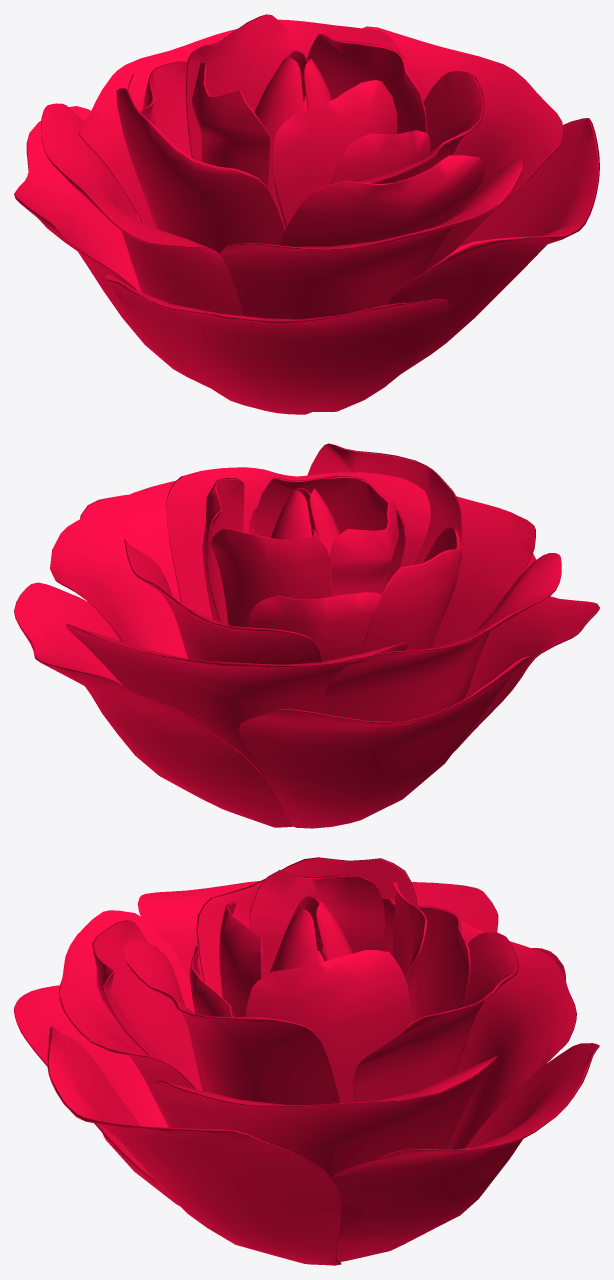
Rendered from rose.fbx.
3 renders of one model, top to bottom at view 1: azimuth 30°, elevation 25°; view 2: azimuth 150°, elevation 25°; view 3: azimuth 270°, elevation 25°, orthographic. The views are drawn at different scales.
Visible parts, largest first — view 1: root; view 2: root; view 3: root.
Boxes of the visible parts, <box> form: root: <box>14,14,599,414</box>; root: <box>14,443,599,828</box>; root: <box>14,857,599,1265</box>.
Bounding box in the file's own units: 1.67 × 1.12 × 1.65.
